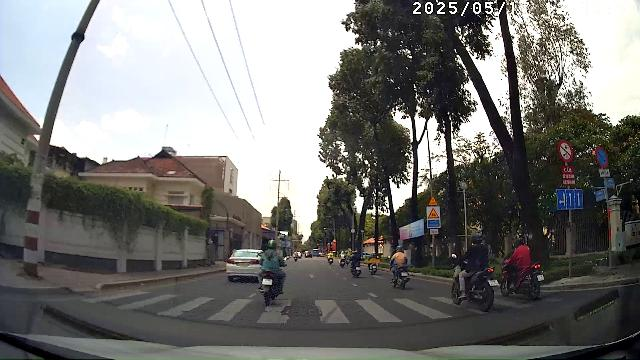131a-cam-do-xe: (595, 146, 608, 168)
